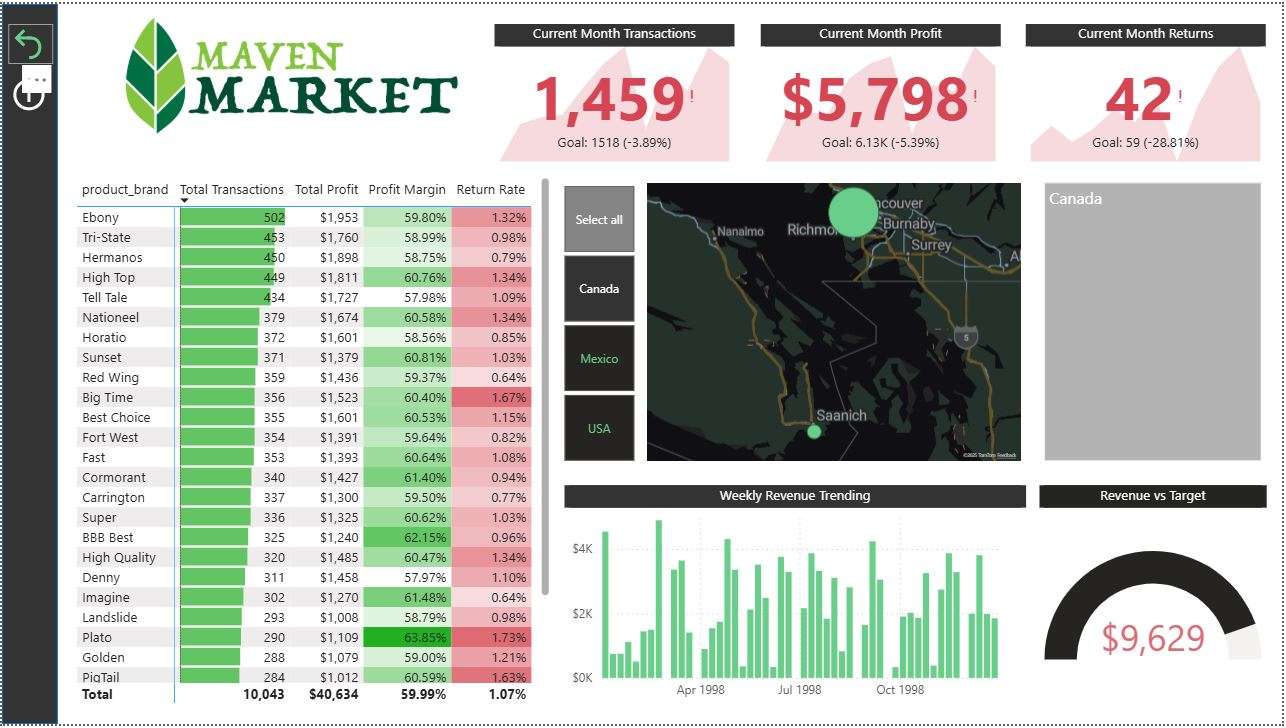

This screenshot's page, from the dashboard's own definition file:
{"tool":"powerbi","page":{"name":"Topline Performance","canvas":[1280,720],"ordinal":0},"visuals":[{"type":"slicer","fields":{"Values":["Stores.store_country"]},"box":[535.7,174.7,120,288.6],"z":0},{"type":"image","box":[94.3,0,388.6,142.9],"z":1000},{"type":"kpi","title":"Current Month Transactions","fields":{"Indicator":["Transactions Data.Total Transactions"],"TrendLine":["Calendar.Start of Month"],"Goal":["Transactions Data.Last Month Transactions"]},"box":[492.9,20,240,142.9],"z":2000},{"type":"pivotTable","fields":{"Values":["Transactions Data.Total Transactions","Transactions Data.Total Profit","Transactions Data.Profit Margin","Returns Data.Return Rate"],"Rows":["Products.product_brand"]},"box":[70,168.6,482.9,535.7],"z":3000},{"type":"kpi","title":"Current Month Profit","fields":{"TrendLine":["Calendar.Start of Month"],"Indicator":["Transactions Data.Total Profit"],"Goal":["Transactions Data.Last Month Profit"]},"box":[758.6,20,240,142.9],"z":4000},{"type":"kpi","title":"Current Month Returns","fields":{"TrendLine":["Calendar.Start of Month"],"Indicator":["Returns Data.Total Returns"],"Goal":["Returns Data.Last Month Returns"]},"box":[1024.3,20,240,142.9],"z":5000},{"type":"azureMap","fields":{"Size":["Transactions Data.Total Transactions"],"Category":["Stores.store_city"]},"box":[640,174.3,384.3,288.6],"z":6000},{"type":"treemap","fields":{"Values":["Transactions Data.Total Transactions"],"Group":["Stores.store_country","Stores.store_city","Stores.store_state"]},"box":[1037.1,174.3,227.1,288.6],"z":7000},{"type":"clusteredColumnChart","title":"Weekly Revenue Trending","fields":{"Y":["Transactions Data.Total Revenue"],"Category":["Calendar.Start of Week"]},"box":[562.9,481.4,461.4,222.9],"z":8000},{"type":"gauge","title":"Revenue vs Target","fields":{"Y":["Transactions Data.Total Revenue"],"MaxValue":["Transactions Data.Revenue Target"]},"box":[1037.1,481.4,227.1,222.9],"z":9000},{"type":"shape","box":[0,0,55.7,720],"z":10000},{"type":"actionButton","box":[6,20,45,40],"z":11000},{"type":"actionButton","box":[5.7,70,44.3,41.4],"z":12000}]}

Visuals, with their boxes on the page's 1280x720 design canvas (x1, y1, x2, y2). These are canvas units, not pixel positions in the 1286x728 screenshot, which may show the page scaled, cropped or inside an application window:
slicer - Stores.store_country: (x1=536, y1=175, x2=656, y2=463)
image: (x1=94, y1=0, x2=483, y2=143)
"Current Month Transactions" kpi: (x1=493, y1=20, x2=733, y2=163)
pivotTable - Transactions Data.Total Transactions x Transactions Data.Total Profit: (x1=70, y1=169, x2=553, y2=704)
"Current Month Profit" kpi: (x1=759, y1=20, x2=999, y2=163)
"Current Month Returns" kpi: (x1=1024, y1=20, x2=1264, y2=163)
azureMap - Transactions Data.Total Transactions x Stores.store_city: (x1=640, y1=174, x2=1024, y2=463)
treemap - Transactions Data.Total Transactions x Stores.store_country: (x1=1037, y1=174, x2=1264, y2=463)
"Weekly Revenue Trending" clusteredColumnChart: (x1=563, y1=481, x2=1024, y2=704)
"Revenue vs Target" gauge: (x1=1037, y1=481, x2=1264, y2=704)
shape: (x1=0, y1=0, x2=56, y2=720)
actionButton: (x1=6, y1=20, x2=51, y2=60)
actionButton: (x1=6, y1=70, x2=50, y2=111)
